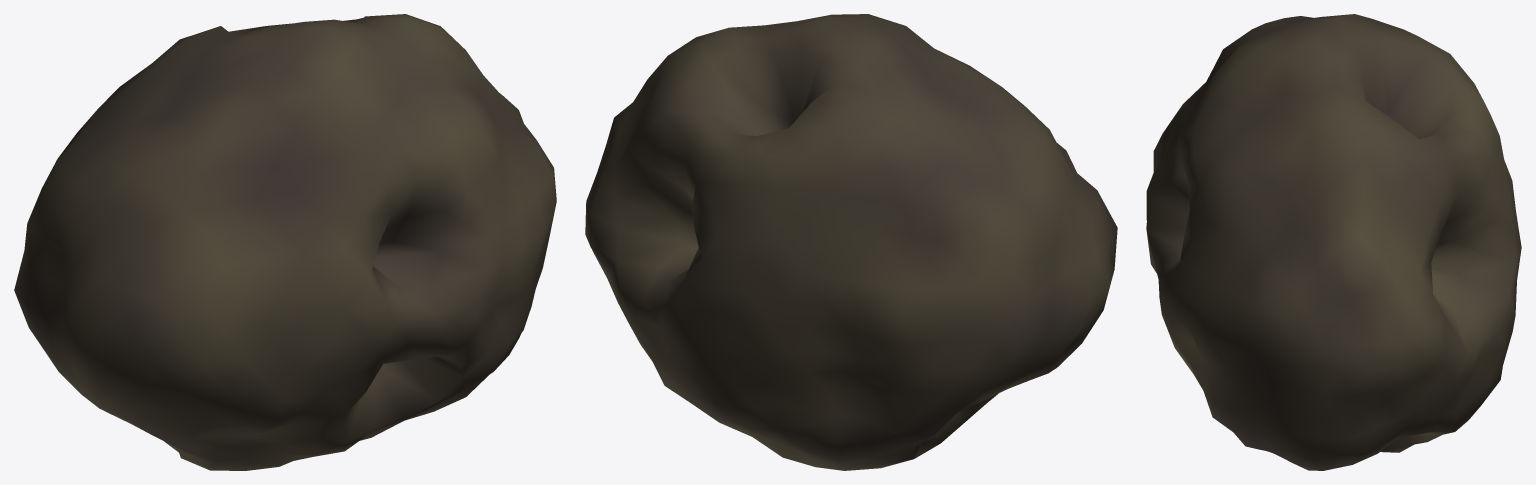
The model's file is asteroid_med_23.glb.
3 renders of one model, left to right at view 1: azimuth 30°, elevation 25°; view 2: azimuth 150°, elevation 25°; view 3: azimuth 270°, elevation 25°, orthographic. The views are drawn at different scales.
Parts seen in each view (by area): view 1: asteroid_med_23; view 2: asteroid_med_23; view 3: asteroid_med_23.
Part boxes in pixels (x1,y1,x2,y2): asteroid_med_23: (14, 14, 556, 470); asteroid_med_23: (585, 14, 1117, 470); asteroid_med_23: (1146, 14, 1521, 470).
Bounding box in the file's own units: 1.7 × 1.41 × 1.17.
